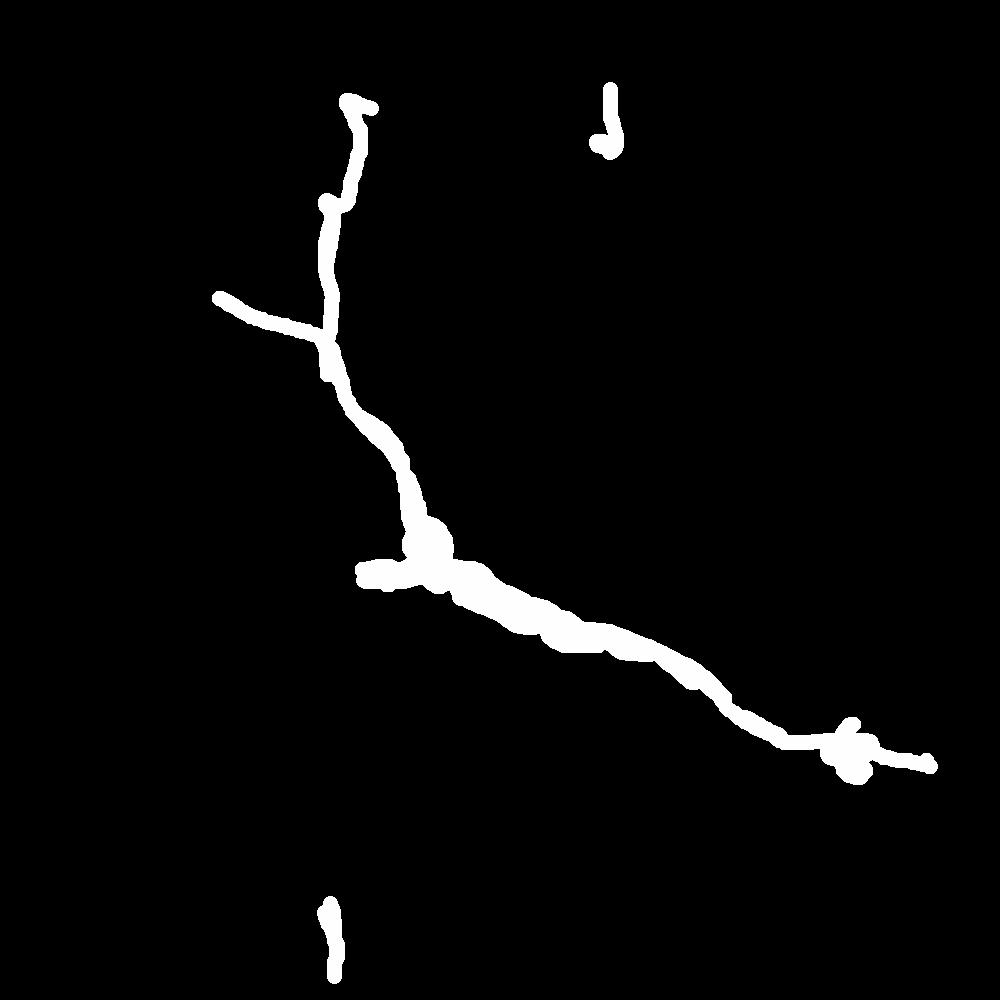illegal: (455, 568, 942, 784), (316, 332, 459, 605), (211, 98, 363, 343), (313, 897, 350, 995), (593, 99, 631, 162), (291, 838, 307, 861)
